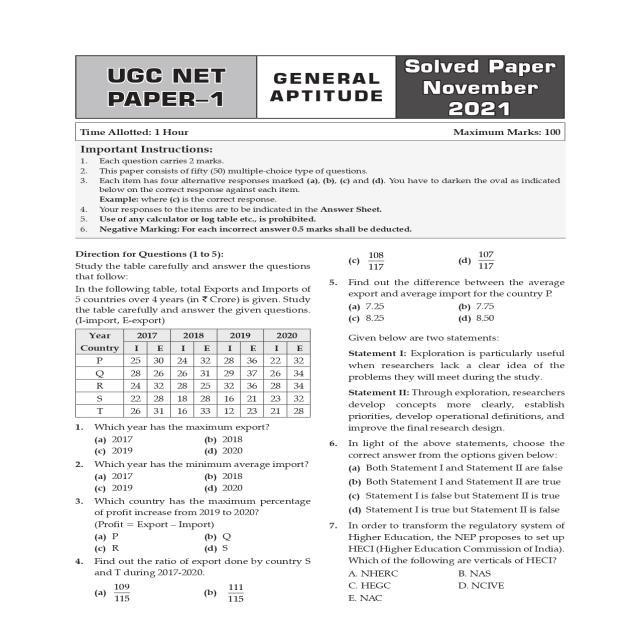Answer_Block: (326, 461, 606, 518), (326, 564, 606, 606), (12, 580, 326, 614), (326, 240, 606, 275), (12, 433, 326, 460), (326, 300, 606, 326), (12, 531, 326, 554), (12, 472, 326, 494)
Instruction: (12, 243, 326, 420), (326, 327, 606, 438)
Question_Answer_Block: (326, 520, 606, 606), (326, 438, 606, 518), (12, 556, 326, 614), (12, 498, 326, 554), (326, 276, 606, 326), (12, 420, 326, 460), (12, 458, 326, 495), (326, 240, 606, 275)
Question_Block: (326, 520, 606, 566), (12, 497, 326, 529), (12, 556, 326, 578), (326, 276, 606, 300), (326, 438, 606, 460), (12, 458, 326, 470), (12, 420, 326, 430)
Question_Paper_Area: (12, 243, 326, 621), (326, 241, 606, 618)
